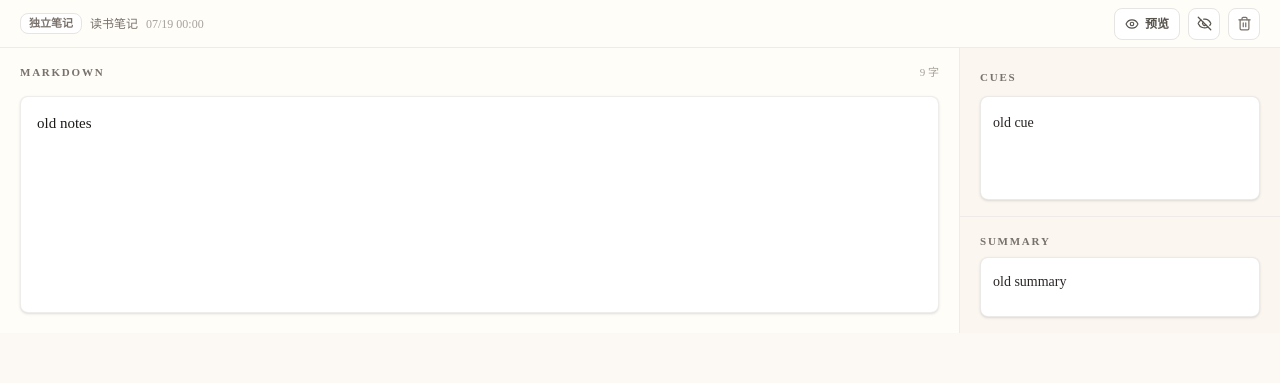
Test: NoteEditor autosave › keeps a failed revision dirty, exposes an accessible error, and retries the same draft
Replace the text in the text box below "Markdown" with "must survive failure" at (480, 204), box [20,96,939,312]
Wait 800 ms
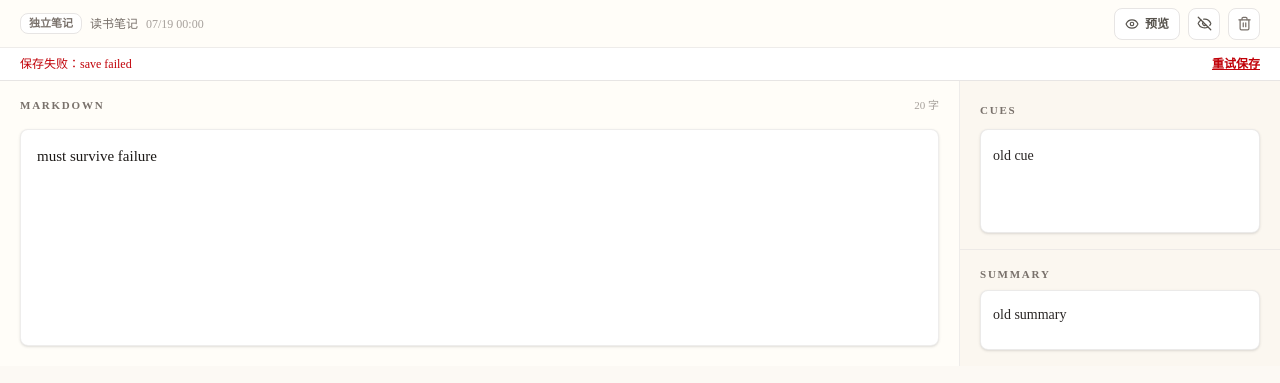
Now the message shows "保存失败", box [20,57,80,71]
Click the button "重试保存" at (1236, 64), box [1212,56,1260,72]
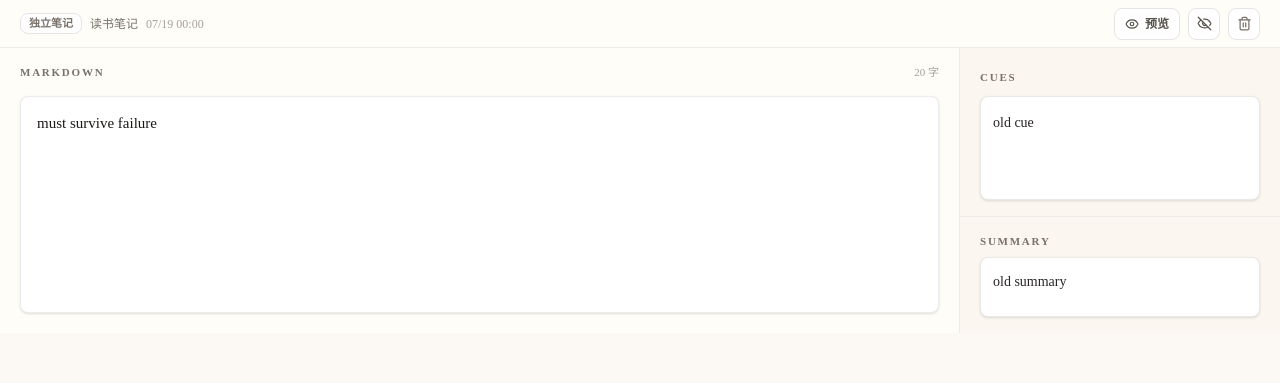
Now the message "保存失败：save failed 重试保存" is gone
